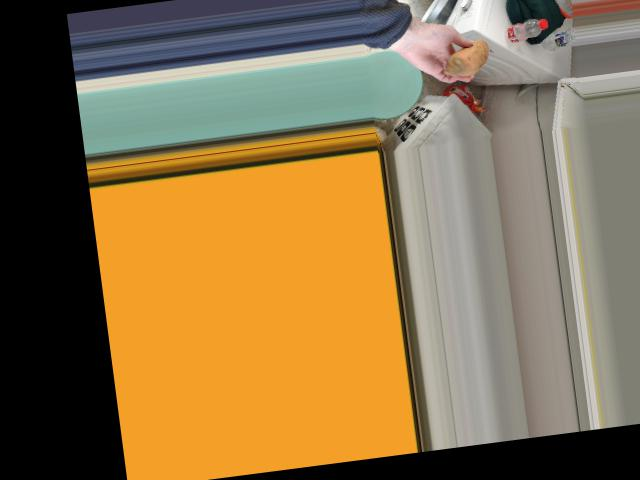sweet_potato: (447, 41, 491, 77)
